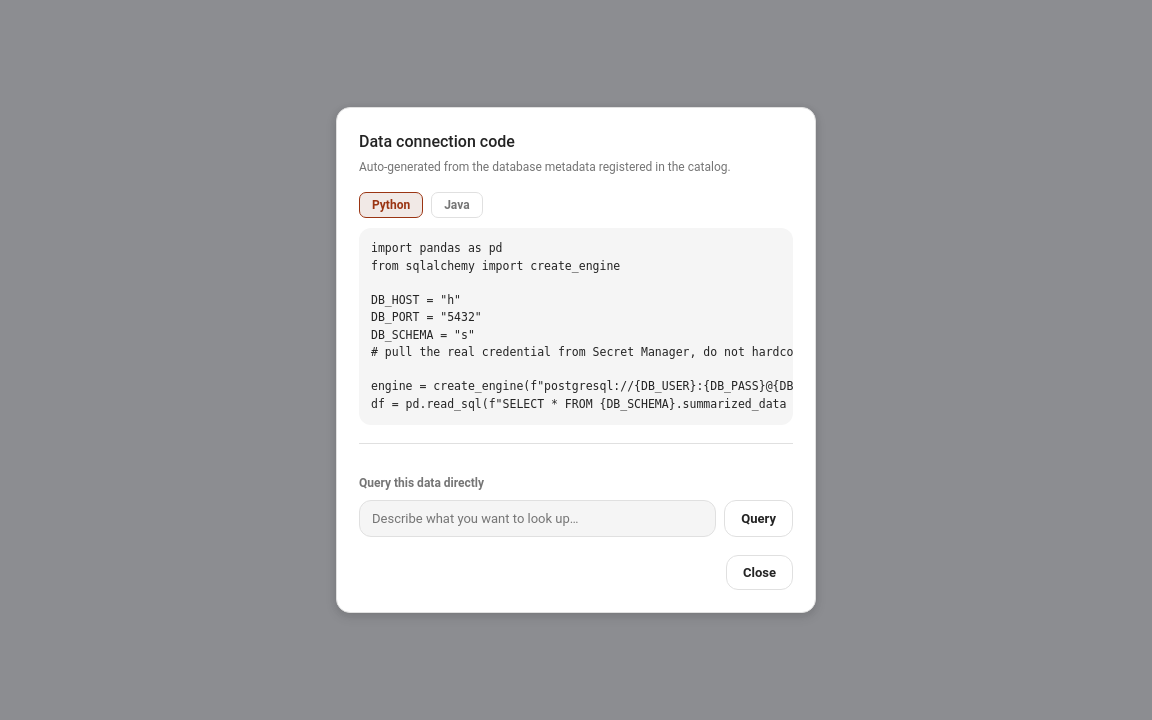
Test: ConnectionCodeDialog › renders a result table when the query returns rows
Type "which customers?" into the field with placeholder "Describe what you want to look up…". click: (538, 518)
box: 359,500 -> 716,537
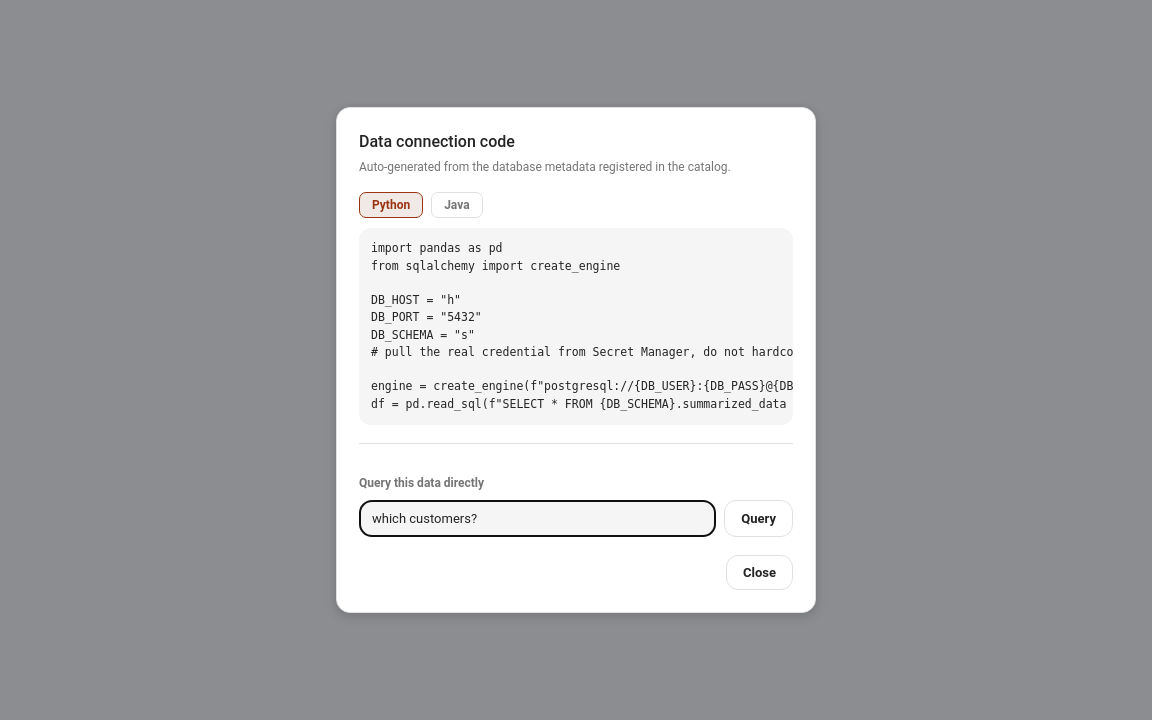
Click the button "Query". click: (759, 518)
box: 724,500 -> 793,537
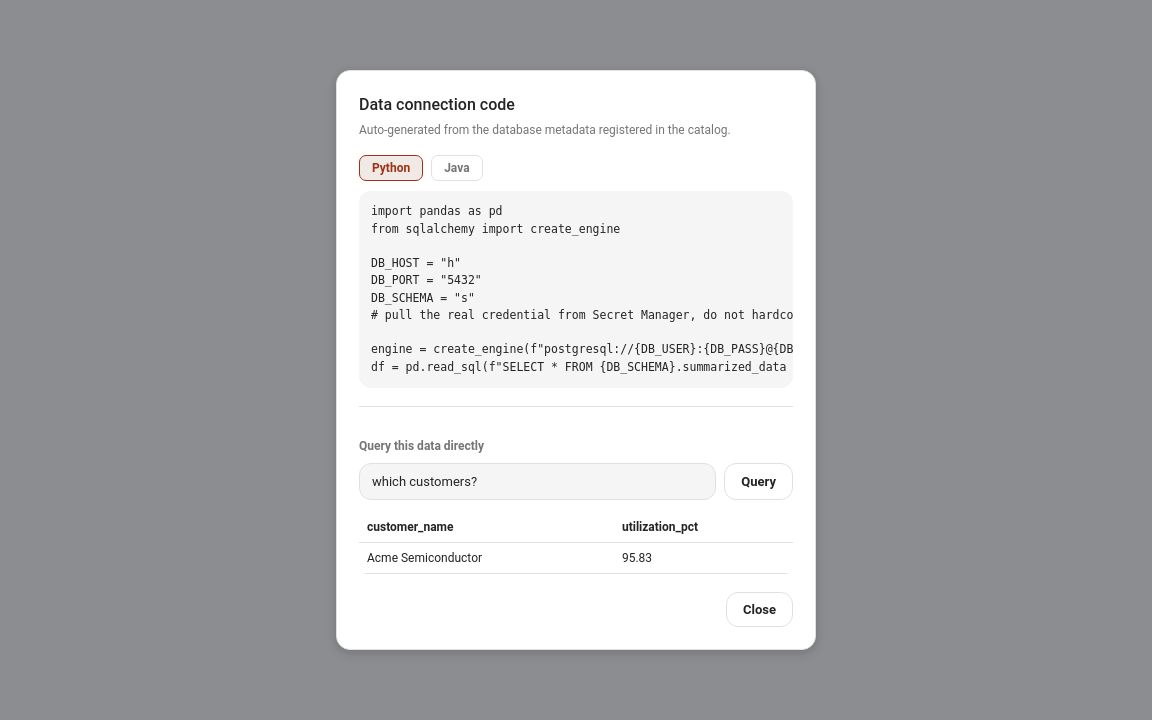
Expected: the text "Acme Semiconductor" is shown, 359,542 -> 614,573
Expected: the text "95.83" is shown, 614,542 -> 793,573
